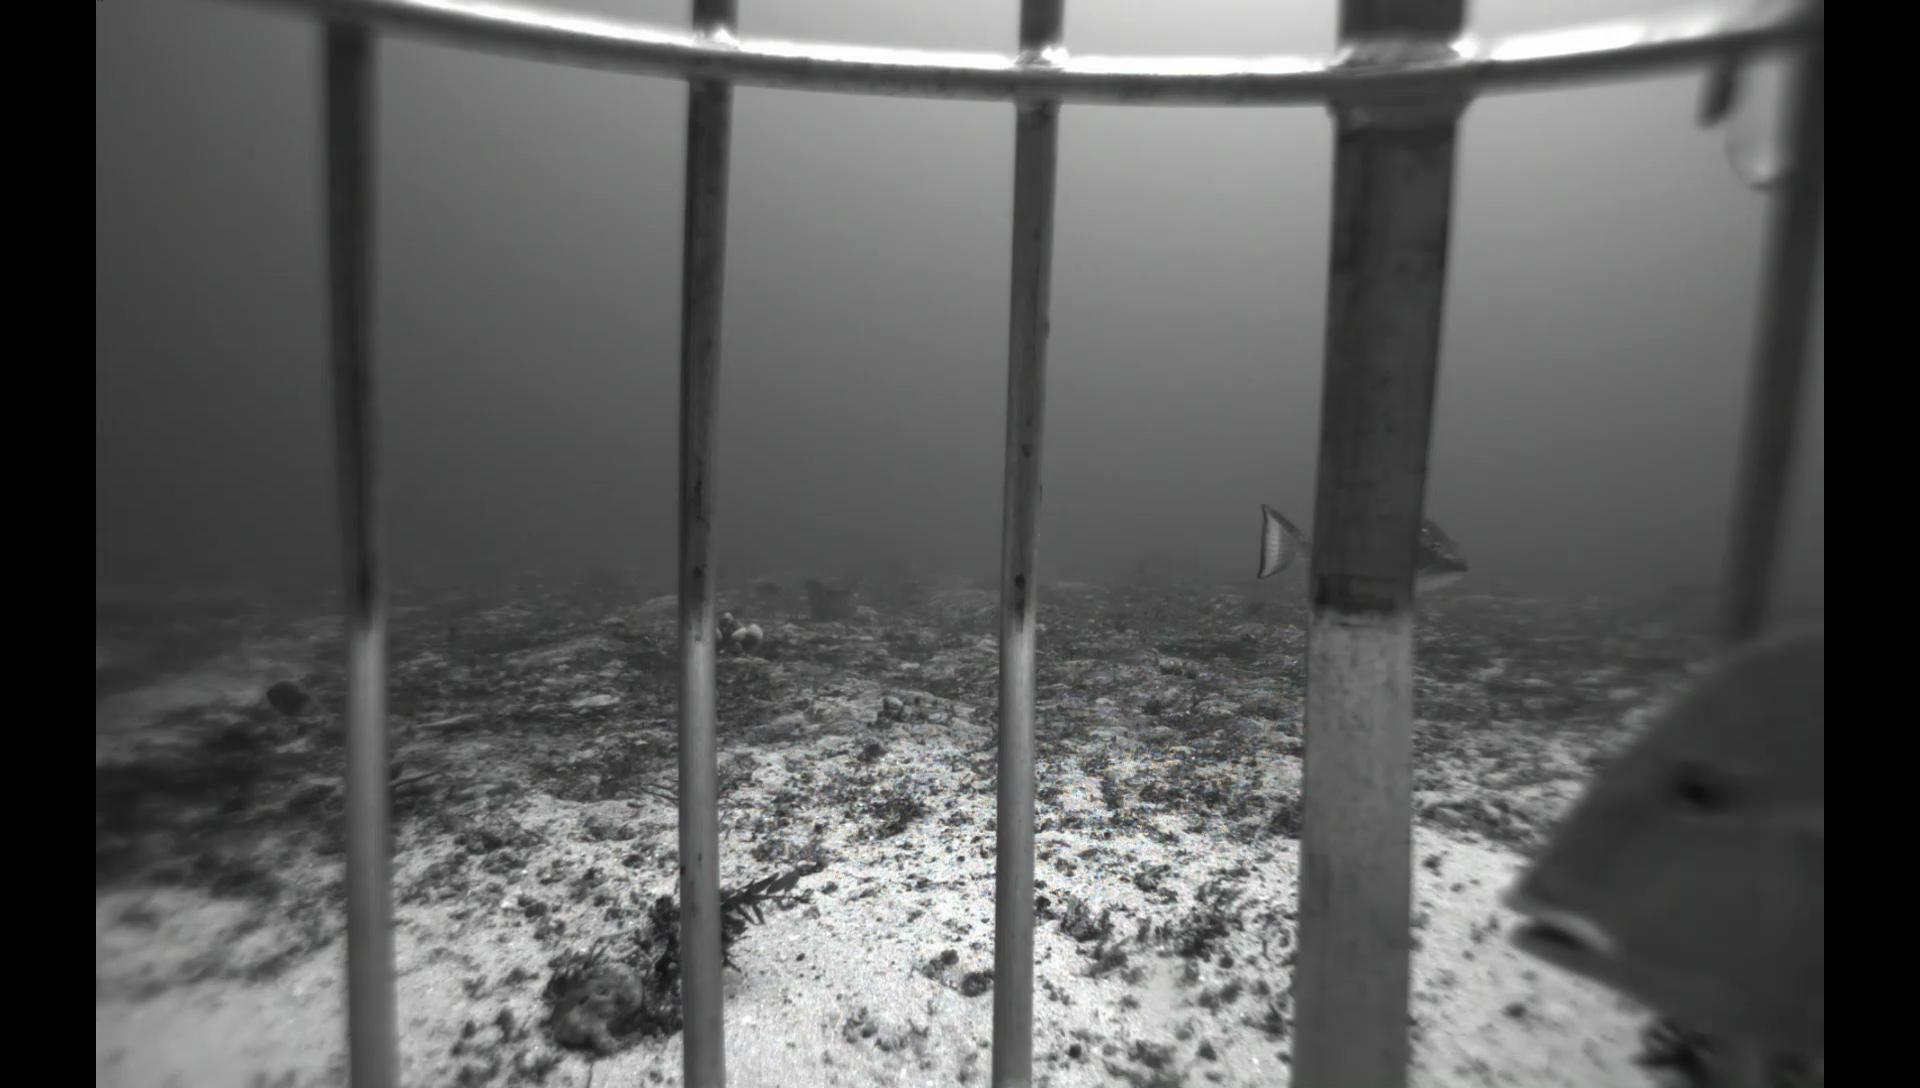CALAMUSPRORIDENS-170210605: (1472, 621, 1825, 1066)
CHAETODONOCELLATUS-170260307: (1623, 612, 1673, 648)
EPINEPHELUSMORIO-170021211: (1245, 481, 1477, 607)
PRISTIGENYSALTA-170050401: (251, 671, 324, 725)
